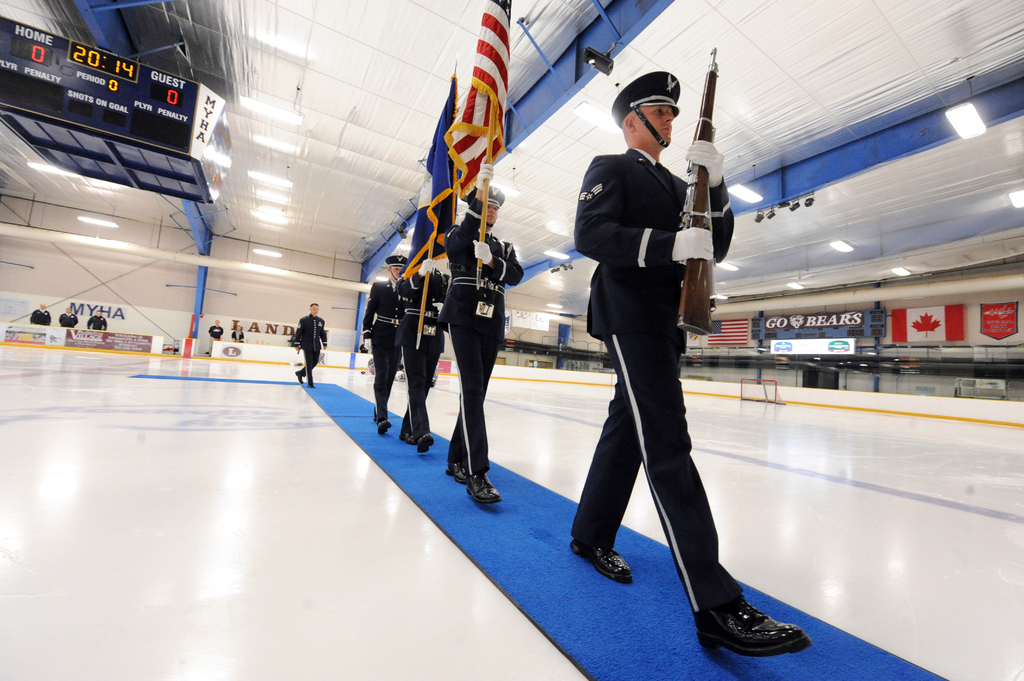Person: (570, 71, 815, 659), (444, 154, 523, 505), (393, 259, 454, 455), (361, 253, 407, 433), (294, 303, 325, 389), (208, 319, 223, 356), (30, 302, 52, 325), (58, 308, 79, 327), (88, 311, 107, 330), (232, 325, 245, 344)
